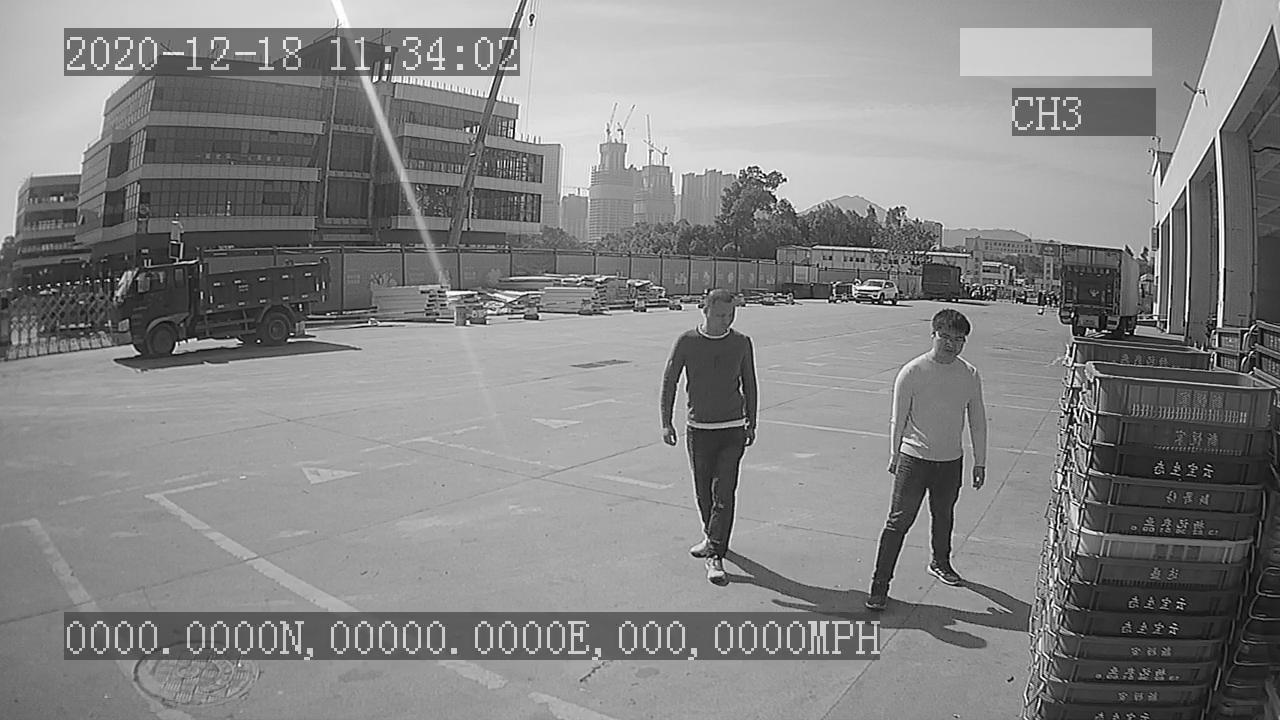person: (864, 303, 987, 613), (659, 290, 768, 585)
